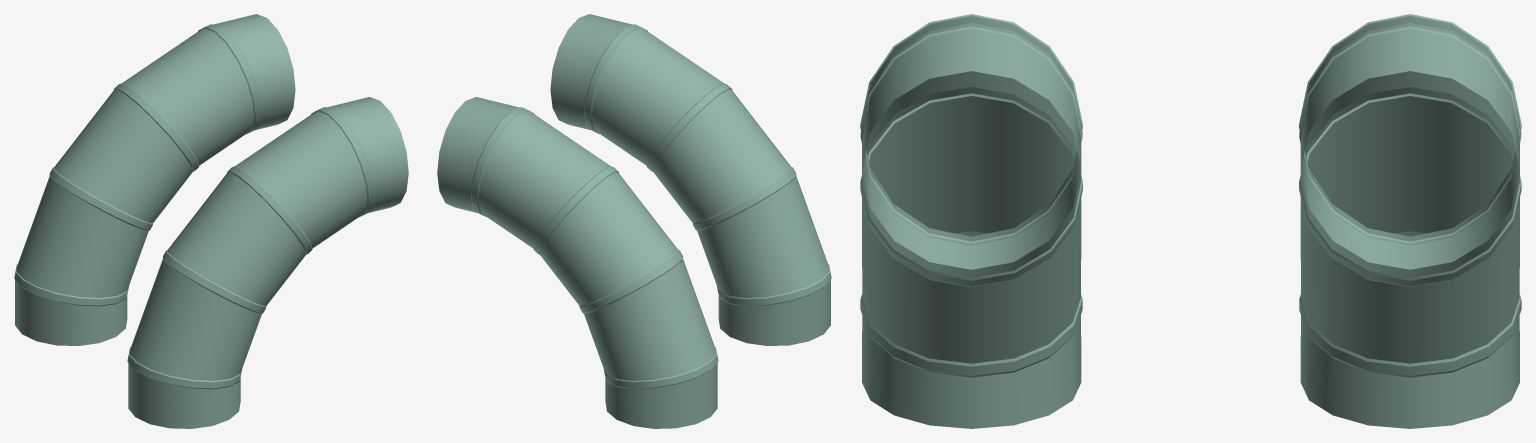
Rendered from PipeComplexLarge_B_10.fbx.
3 views of the same model, side by side, from view 1: azimuth 30°, elevation 25°; view 2: azimuth 150°, elevation 25°; view 3: azimuth 270°, elevation 25° (orthographic). The views are drawn at different scales.
Parts seen in each view (by area): view 1: PipeComplexLarge_B_10.001; view 2: PipeComplexLarge_B_10.001; view 3: PipeComplexLarge_B_10.001.
Boxes of the visible parts, x1,y1,x2,y2 form: PipeComplexLarge_B_10.001: [14, 14, 408, 428]; PipeComplexLarge_B_10.001: [437, 14, 831, 428]; PipeComplexLarge_B_10.001: [860, 14, 1521, 428].
Bounding box in the file's own units: 0.5016 × 0.5016 × 0.6032.
